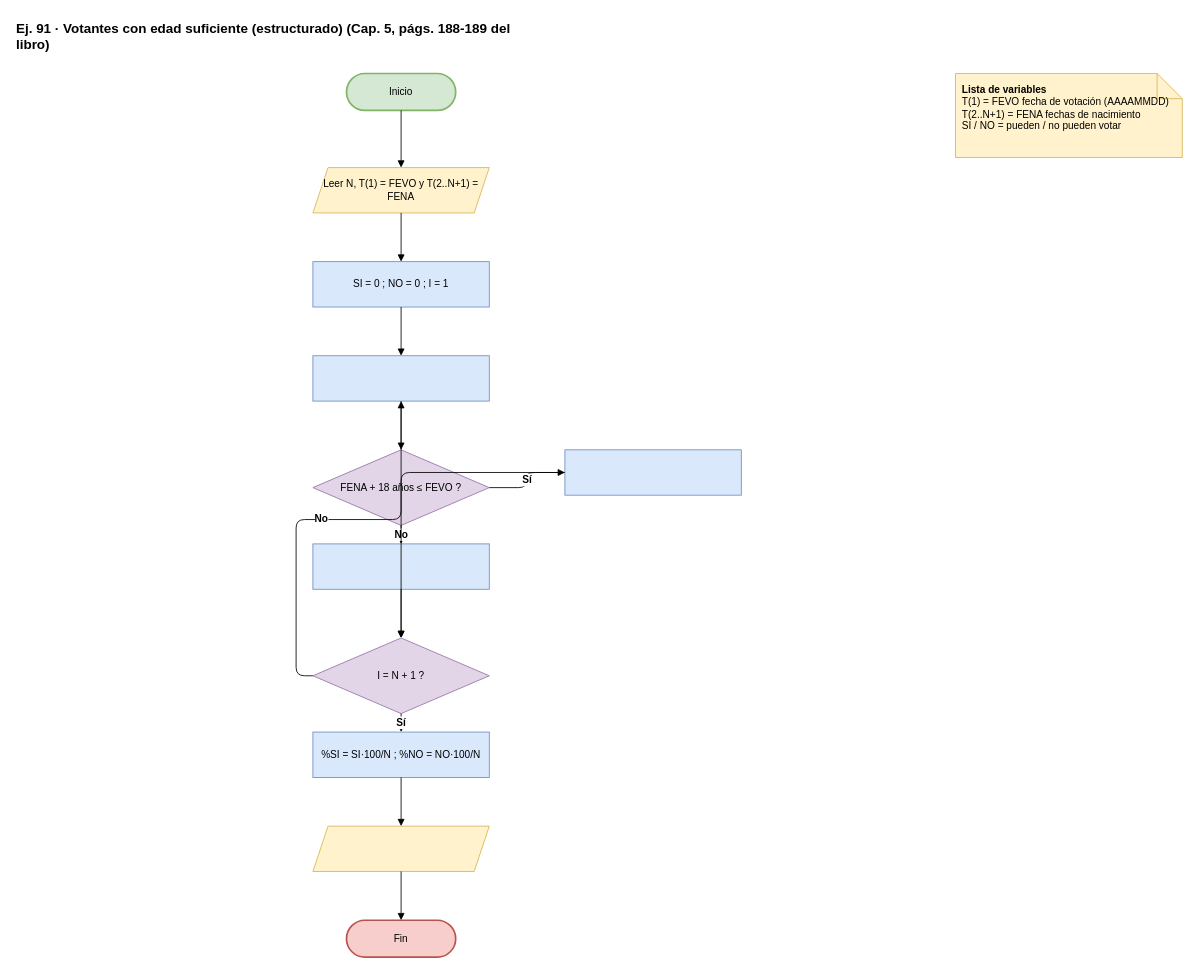
This 1197x972 diagram has some shape labels left out. Here are the shapes that lost their labels. From the top down, the box of each, then its label:
(312, 355, 489, 401): I = I + 1 ; FENA = T(I)
(564, 449, 741, 495): SI = SI + 1
(312, 543, 489, 589): NO = NO + 1
(312, 825, 489, 872): Escribir SI, NO, %SI, %NO
